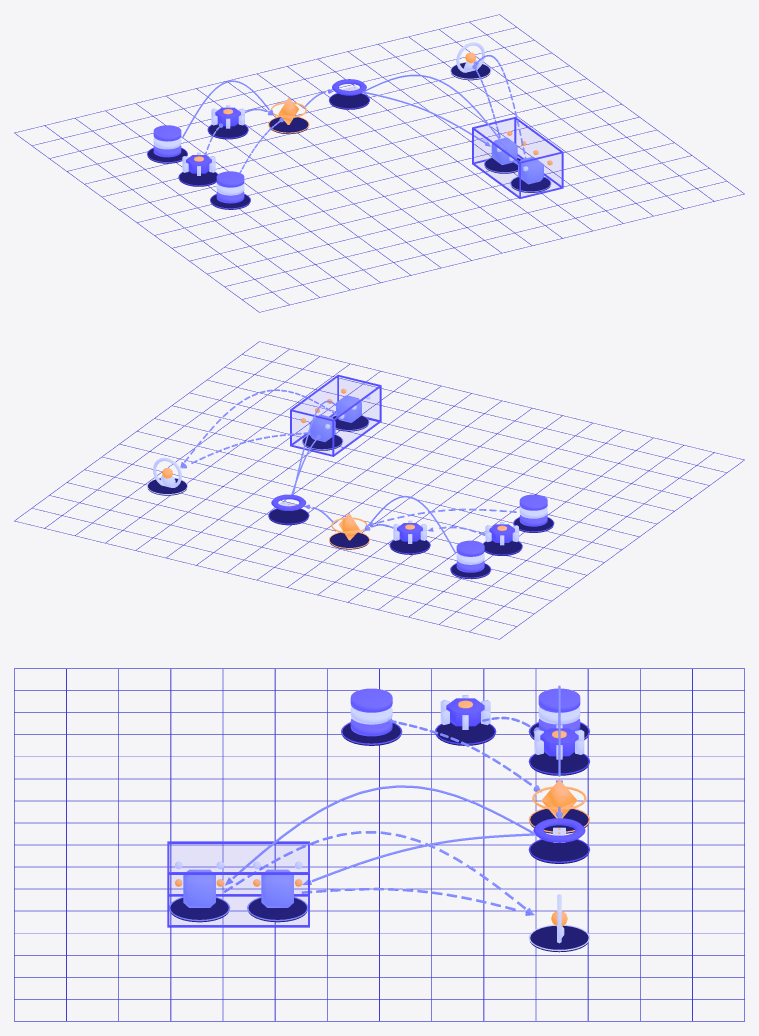
Rendered from ansible.glb.
The picture shows the model from 3 angles, top to bottom: view 1: azimuth 30°, elevation 25°; view 2: azimuth 150°, elevation 25°; view 3: azimuth 270°, elevation 25°; orthographic projection. The views are drawn at different scales.
Parts seen in each view (by area): view 1: floor, group_Managed_nodes, mesh_node_b_core, mesh_ssh_pad, mesh_node_a_core; view 2: floor, group_Managed_nodes, mesh_ssh_pad, mesh_node_a_core, mesh_node_b_core, mesh_control_pad; view 3: floor, group_Managed_nodes, mesh_node_a_core, mesh_report_pad, mesh_node_b_core, mesh_ssh_pad, link_ssh_node_b, mesh_playbook_pad, mesh_roles_pad, mesh_vault_disc2, mesh_node_b_pad, mesh_node_a_pad (+8 smaller).
Part boxes in pixels (x1,y1,x2,y2): floor: [14, 14, 744, 312]; group_Managed_nodes: [472, 117, 563, 198]; mesh_node_b_core: [518, 156, 543, 184]; mesh_ssh_pad: [330, 93, 368, 109]; mesh_node_a_core: [491, 137, 517, 164]; floor: [14, 341, 744, 639]; group_Managed_nodes: [290, 374, 381, 456]; mesh_ssh_pad: [269, 509, 308, 525]; mesh_node_a_core: [309, 414, 335, 441]; mesh_node_b_core: [336, 395, 361, 422]; mesh_control_pad: [330, 532, 368, 549]; floor: [14, 668, 744, 1021]; group_Managed_nodes: [167, 841, 309, 927]; mesh_node_a_core: [261, 869, 293, 907]; mesh_report_pad: [530, 926, 588, 952]; mesh_node_b_core: [183, 869, 215, 907]; mesh_ssh_pad: [530, 840, 588, 863]; link_ssh_node_b: [225, 785, 534, 885]; mesh_playbook_pad: [530, 752, 588, 775]; mesh_roles_pad: [436, 722, 494, 745]; mesh_vault_disc2: [350, 688, 392, 712]; mesh_node_b_pad: [170, 898, 228, 922]; mesh_node_a_pad: [248, 898, 306, 922].
Size of the model in its own units: 32.03 by 4.33 by 28.03.
